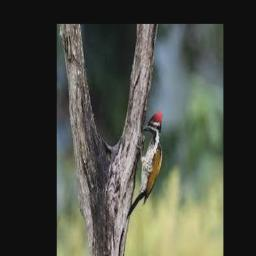Woodpecker: (126, 113, 162, 218)
